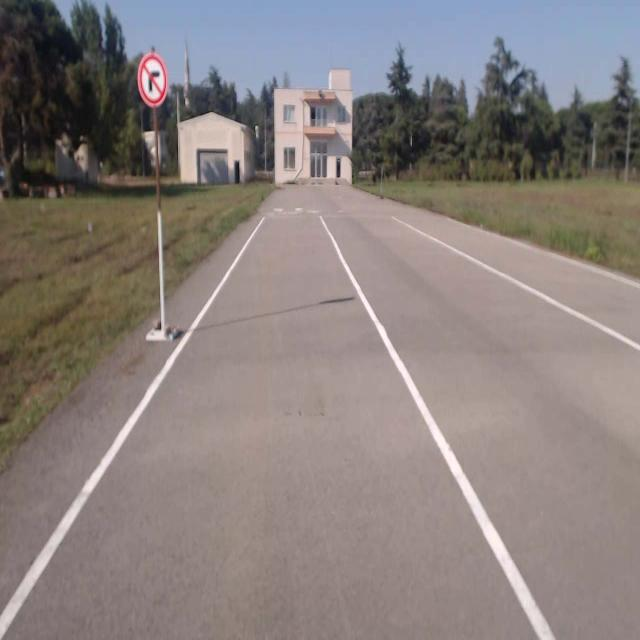sagadonulmez: (137, 55, 167, 104)
